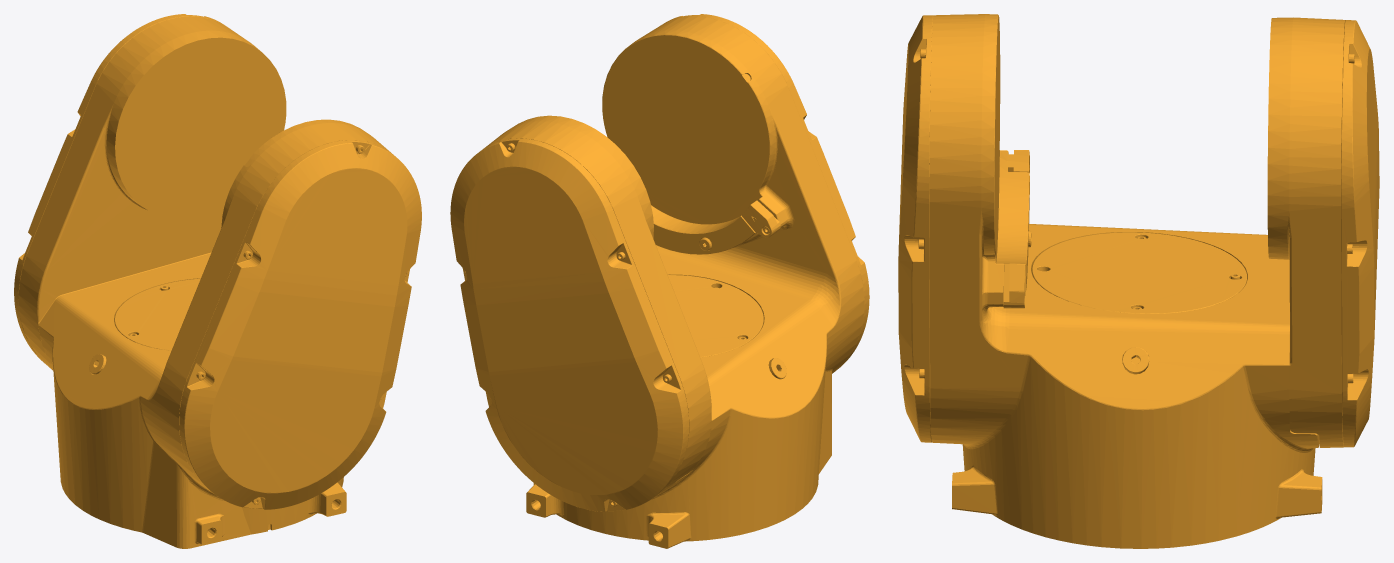
File: ABBIRB1300Link1.dae
3 renders of one model, left to right at view 1: azimuth 30°, elevation 25°; view 2: azimuth 150°, elevation 25°; view 3: azimuth 270°, elevation 25°, orthographic. The views are drawn at different scales.
Parts seen in each view (by area): view 1: node_bd54e7ea_5919_466f_a180_55dcace79dd0_mesh0; view 2: node_bd54e7ea_5919_466f_a180_55dcace79dd0_mesh0; view 3: node_bd54e7ea_5919_466f_a180_55dcace79dd0_mesh0.
Boxes of the visible parts, box(x1,y1,x2,y2) form: node_bd54e7ea_5919_466f_a180_55dcace79dd0_mesh0: box(14, 14, 421, 548); node_bd54e7ea_5919_466f_a180_55dcace79dd0_mesh0: box(450, 14, 869, 548); node_bd54e7ea_5919_466f_a180_55dcace79dd0_mesh0: box(898, 14, 1379, 548).
Size of the model in its own units: 0.2702 by 0.3436 by 0.3782.
